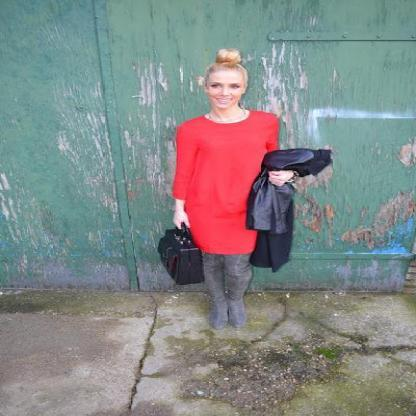bag: (157, 225, 204, 285)
dress: (172, 110, 278, 254)
jacket: (245, 148, 332, 272)
shoe: (202, 251, 258, 324)
